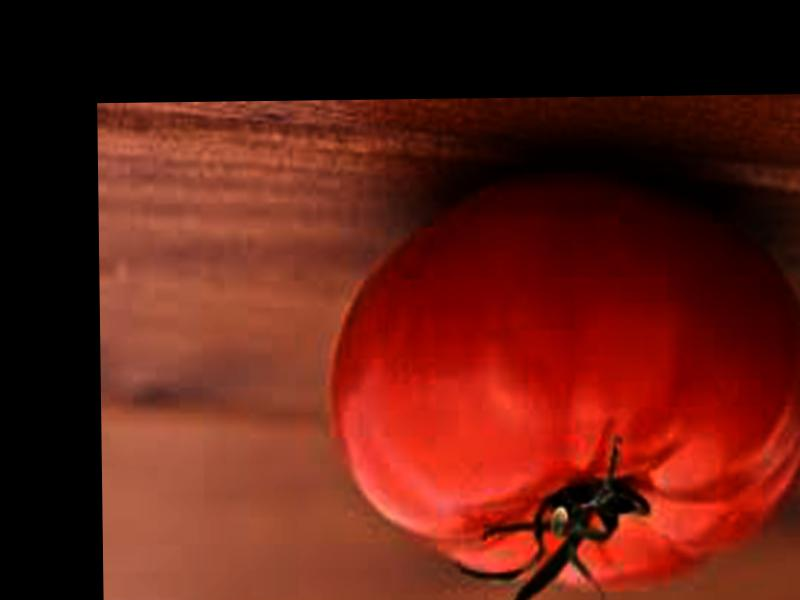Tomato: (324, 168, 800, 591)
